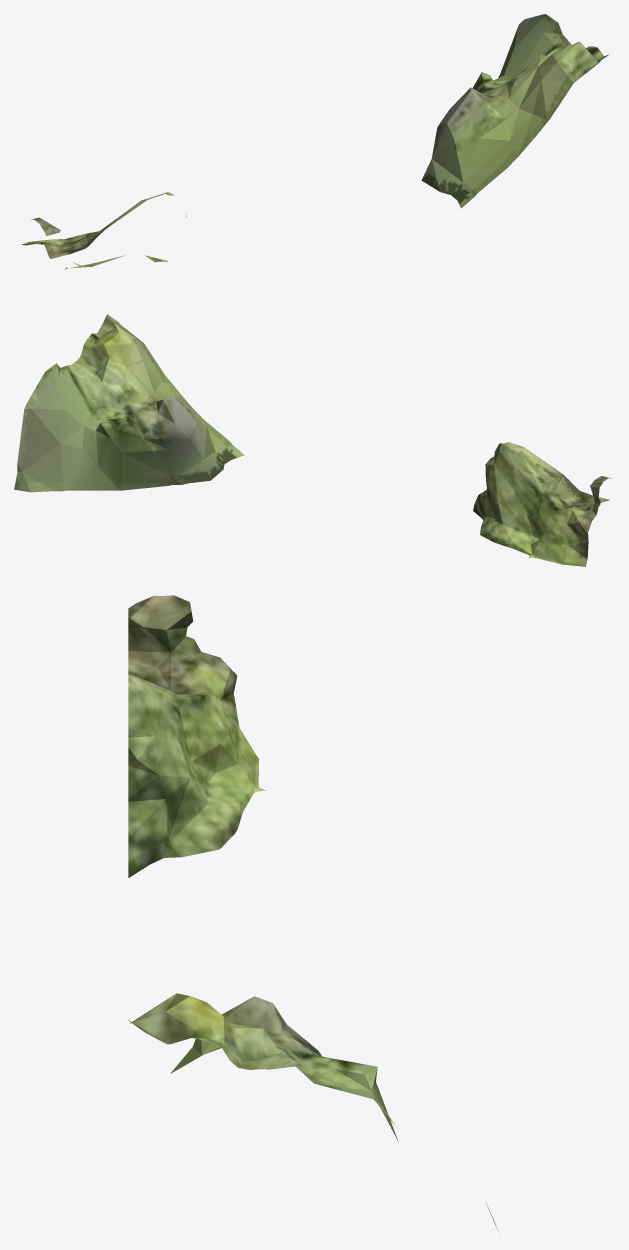
The picture shows the model from 3 angles, top to bottom: view 1: azimuth 30°, elevation 25°; view 2: azimuth 150°, elevation 25°; view 3: azimuth 270°, elevation 25°; orthographic projection. The views are drawn at different scales.
Bounding box in the file's own units: 52.22 × 10.99 × 16.58.
Materials: 1 (1 with a texture image).
